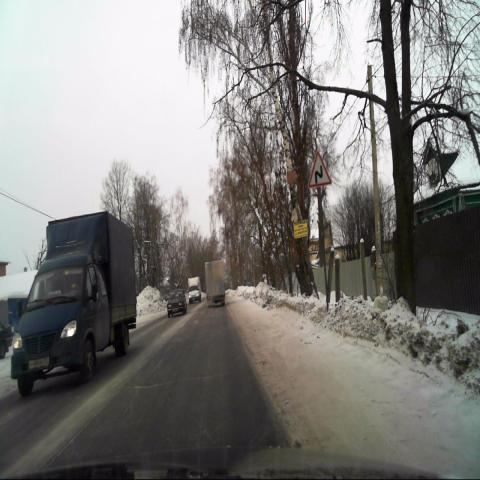1_12: (308, 151, 331, 188)
